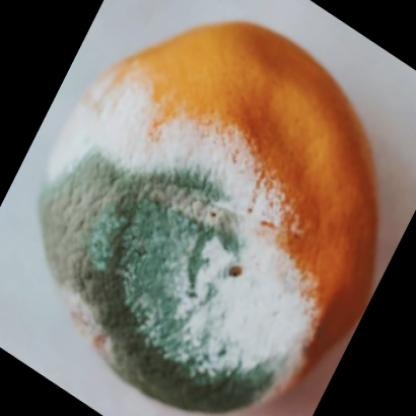rotten: (28, 23, 376, 416)
